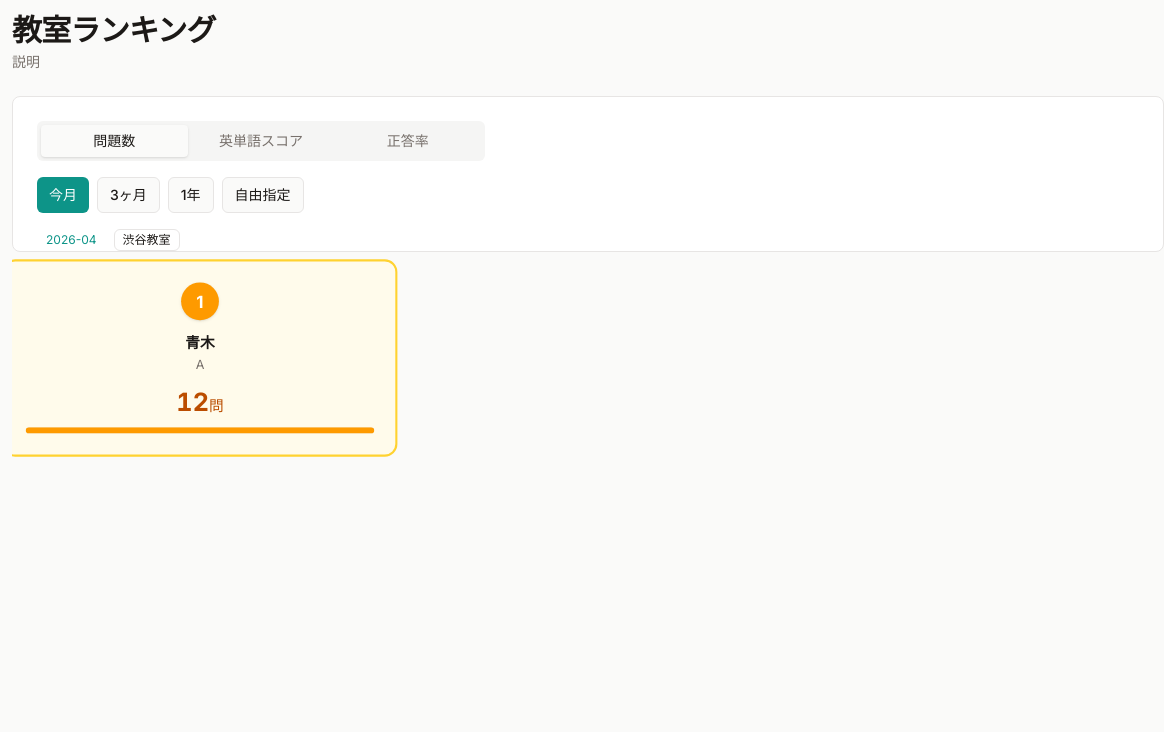
Test case: RankingPageClient › 自由指定の有効な期間では再取得する
Check: the text "2026-04" is shown, box [37,229,106,251]
Click the button "自由指定". click: (263, 195)
box: [222,177,304,213]
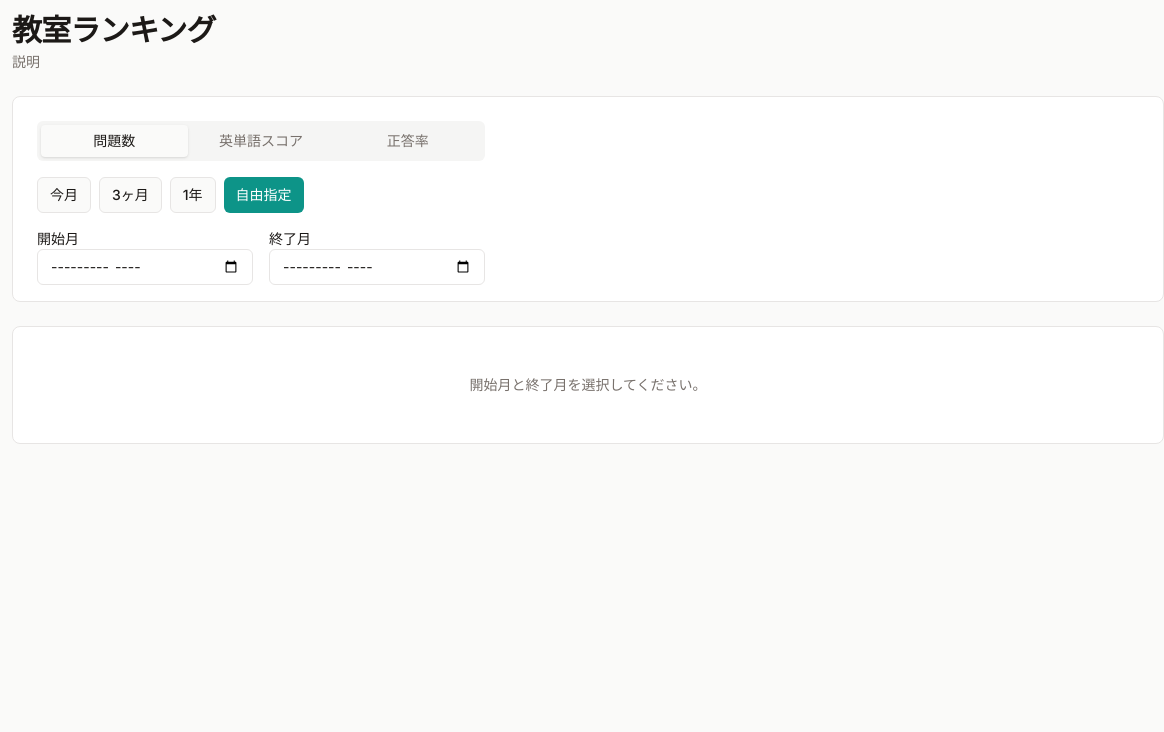
Type "2026-01" into the field labelled "開始月". click: (145, 267)
box: [37,249,253,285]
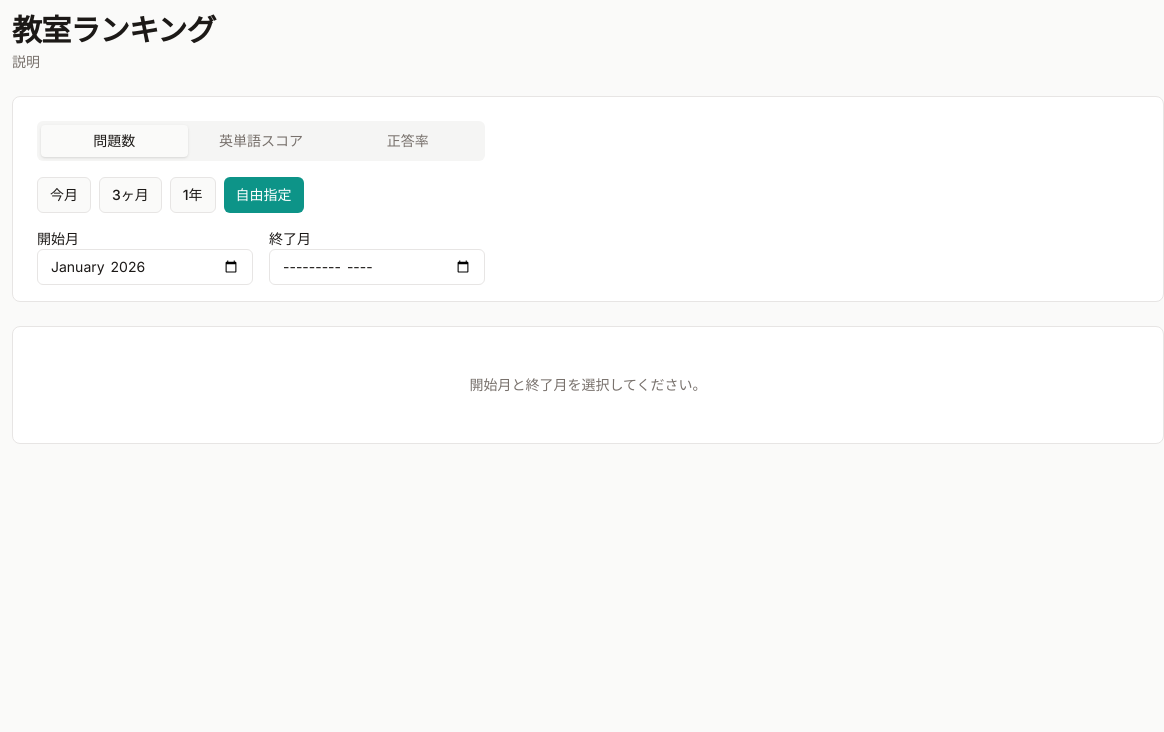
Type "2026-03" into the field labelled "終了月". click: (377, 267)
box: [269,249,485,285]
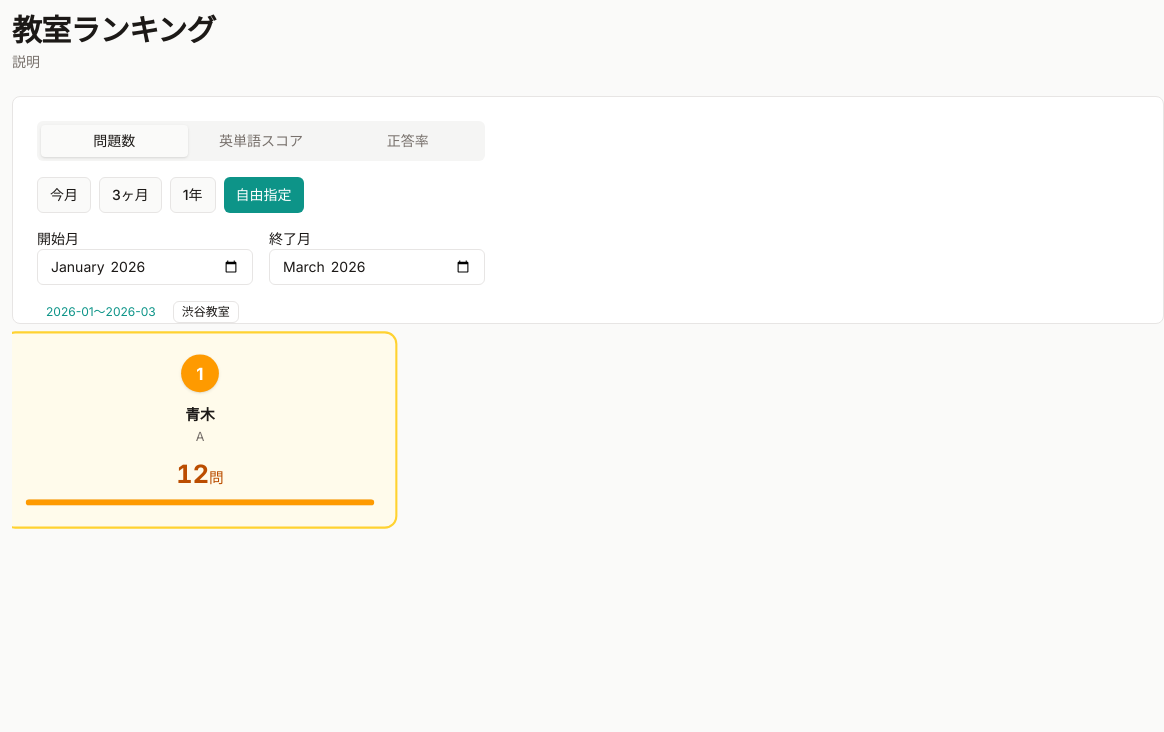
Check: the text "2026-01〜2026-03" is shown, box [37,301,165,323]
